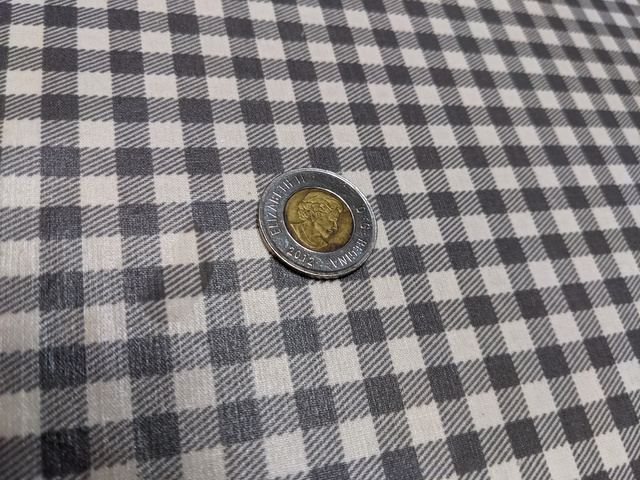twonie: (251, 156, 385, 289)
